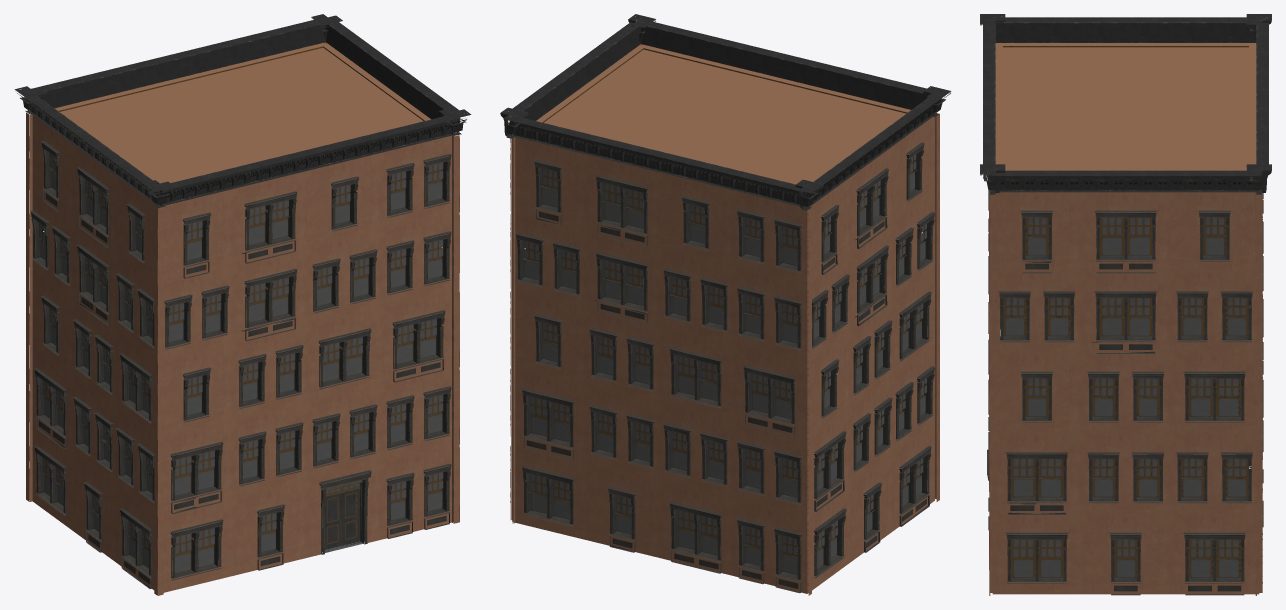
File: apartment_a.glb
3 renders of one model, left to right at view 1: azimuth 30°, elevation 25°; view 2: azimuth 150°, elevation 25°; view 3: azimuth 270°, elevation 25°, orthographic. The views are drawn at different scales.
Parts seen in each view (by area): view 1: building; view 2: building; view 3: building.
Part boxes in pixels (<box>): building: <box>14,14,471,595</box>; building: <box>500,14,951,595</box>; building: <box>980,14,1271,595</box>.
Size of the model in its own units: 12.85 by 15.84 by 9.85.
5 materials, 5 textured.
